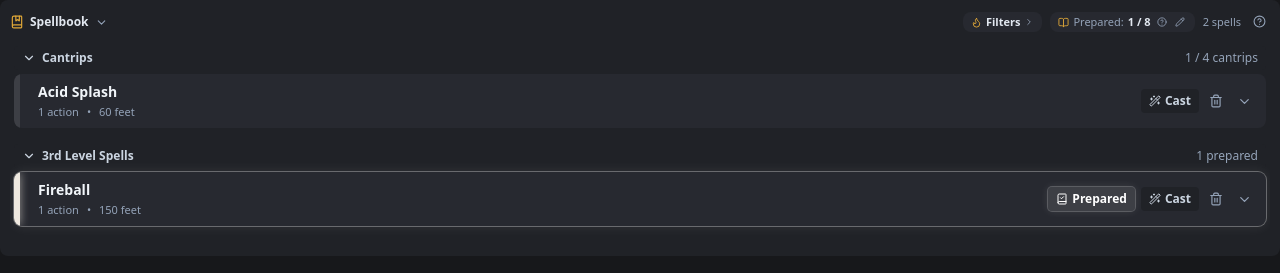
Test case: SpellbookView › renders spells grouped into level sections
This screenshot has width=1280, height=273.
Expected: the text "Cantrips" is shown, left=42, top=50, right=93, bottom=66
Expected: the text "3rd Level Spells" is shown, left=42, top=148, right=134, bottom=164
// Toggling one level group only collapses that level, keeping other levels open
What coordinates should you click on to do the following:
click the button "3rd Level Spells 1 prepared"
I would click on:
 (88, 156)
Its box is left=14, top=144, right=1266, bottom=168.
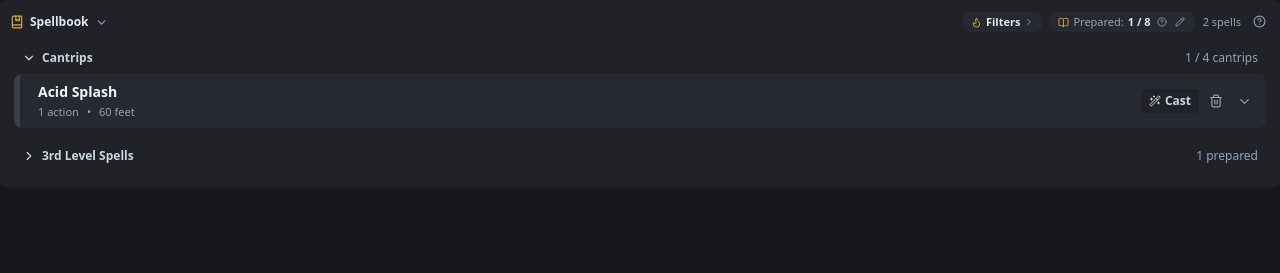
Expected: the text "Acid Splash" is shown, left=38, top=82, right=117, bottom=102
Expected: the button "Fireball" is gone
// Toggling it again re-opens it while Cantrips stays open
What coordinates should you click on to do the following:
click the button "3rd Level Spells 1 prepared"
I would click on:
 (88, 156)
Its box is left=14, top=144, right=1266, bottom=168.
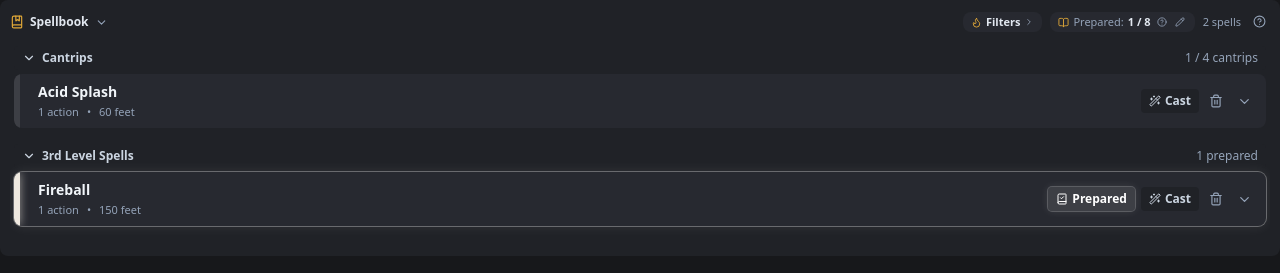
Expected: the text "Acid Splash" is shown, left=38, top=82, right=117, bottom=102
Expected: the text "Fireball" is shown, left=38, top=180, right=90, bottom=200
